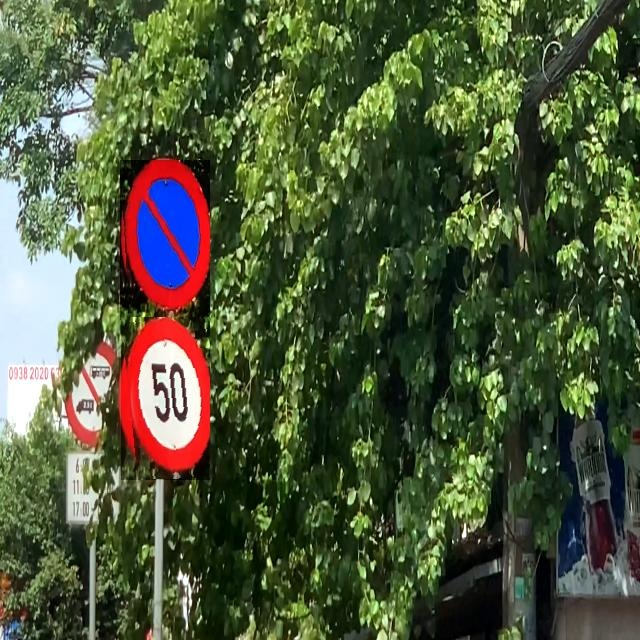bien_cam: (121, 317, 210, 480), (120, 160, 210, 320)
